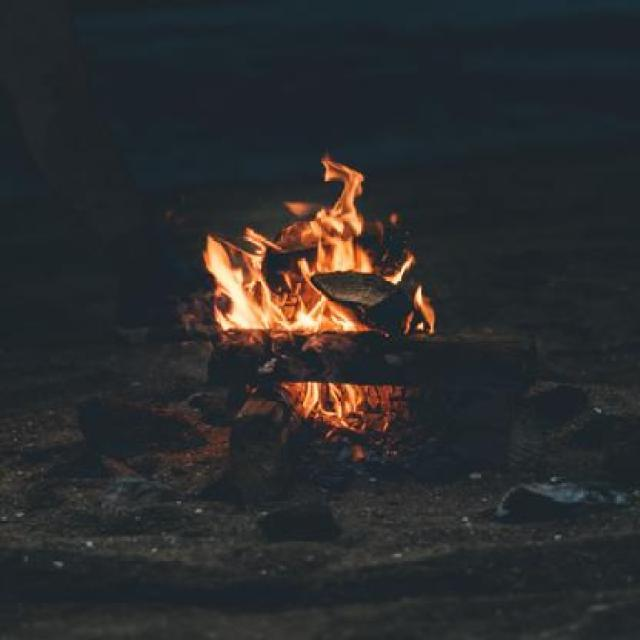Fire: (185, 158, 442, 450)
